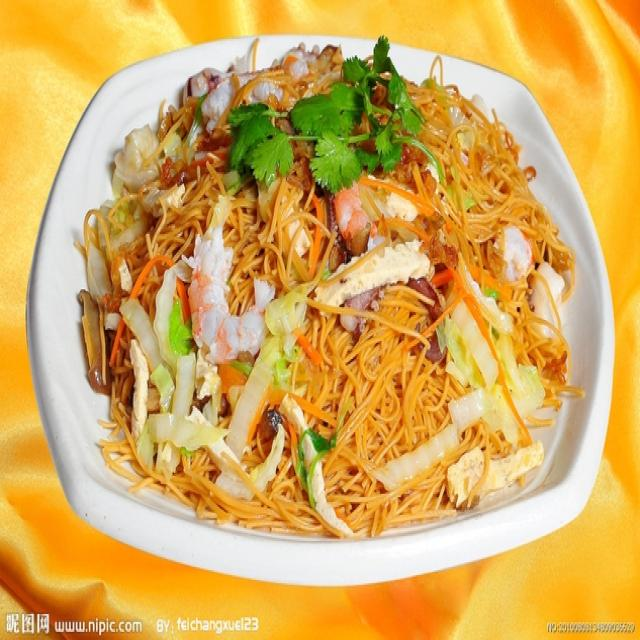面条主食: (29, 21, 596, 580)
